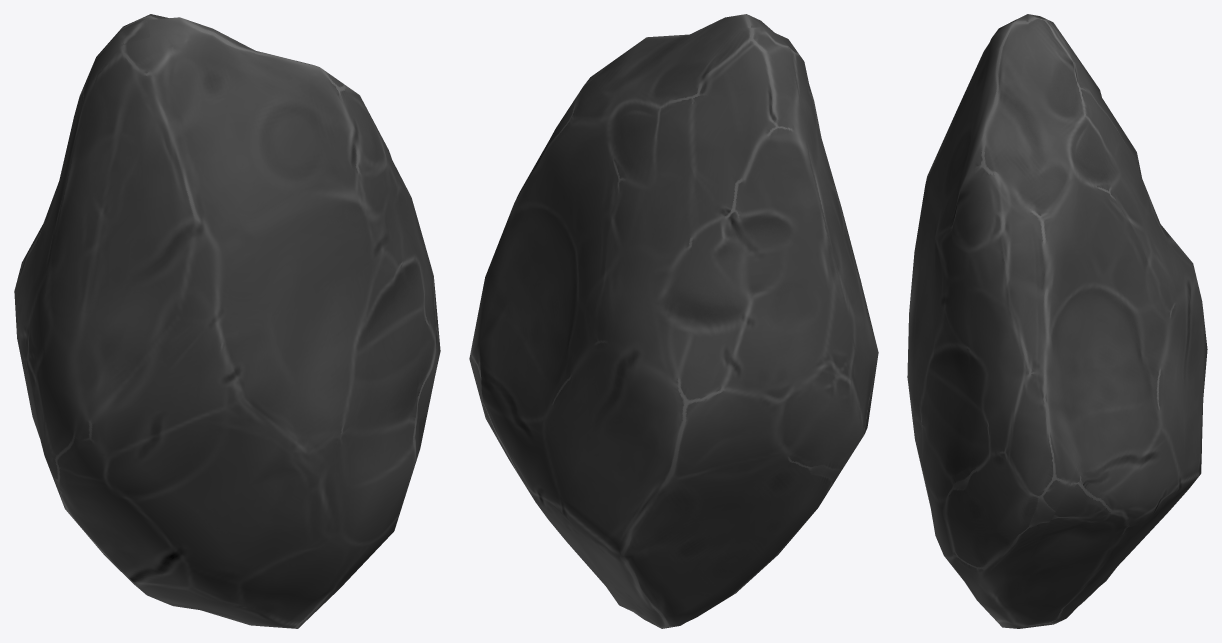
File: stylized_rock.glb
The picture shows the model from 3 angles, left to right: view 1: azimuth 30°, elevation 25°; view 2: azimuth 150°, elevation 25°; view 3: azimuth 270°, elevation 25°; orthographic projection. The views are drawn at different scales.
Parts seen in each view (by area): view 1: Object_2; view 2: Object_2; view 3: Object_2.
Boxes of the visible parts, x1=… form: Object_2: x1=14, y1=14, x2=440, y2=628; Object_2: x1=469, y1=14, x2=878, y2=628; Object_2: x1=907, y1=14, x2=1207, y2=628.
Size of the model in its own units: 0.1432 by 0.2217 by 0.107.
1 material, 1 textured.
